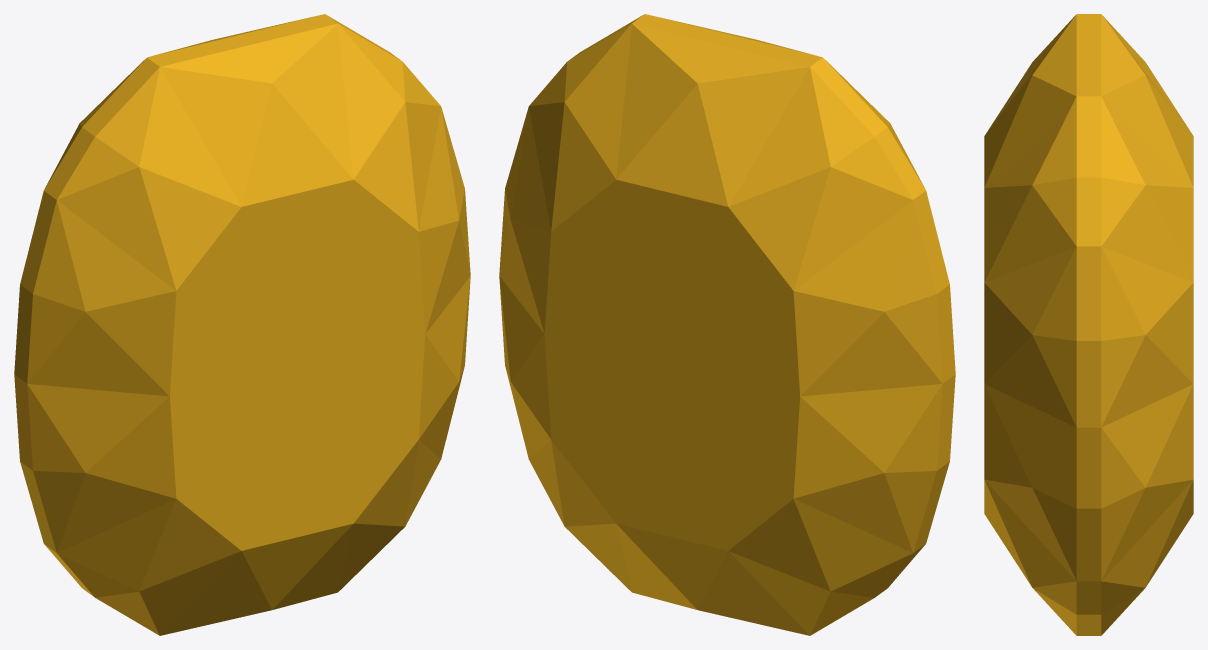
Rendered from jewel3_Topaz.fbx.
3 renders of one model, left to right at view 1: azimuth 30°, elevation 25°; view 2: azimuth 150°, elevation 25°; view 3: azimuth 270°, elevation 25°, orthographic. The views are drawn at different scales.
Parts seen in each view (by area): view 1: jewel3_Topaz; view 2: jewel3_Topaz; view 3: jewel3_Topaz.
Boxes of the visible parts, x1,y1,x2,y2 form: jewel3_Topaz: [14, 14, 470, 635]; jewel3_Topaz: [499, 14, 955, 635]; jewel3_Topaz: [984, 14, 1193, 635].
Size of the model in its own units: 0.5053 by 0.6196 by 0.2176.
